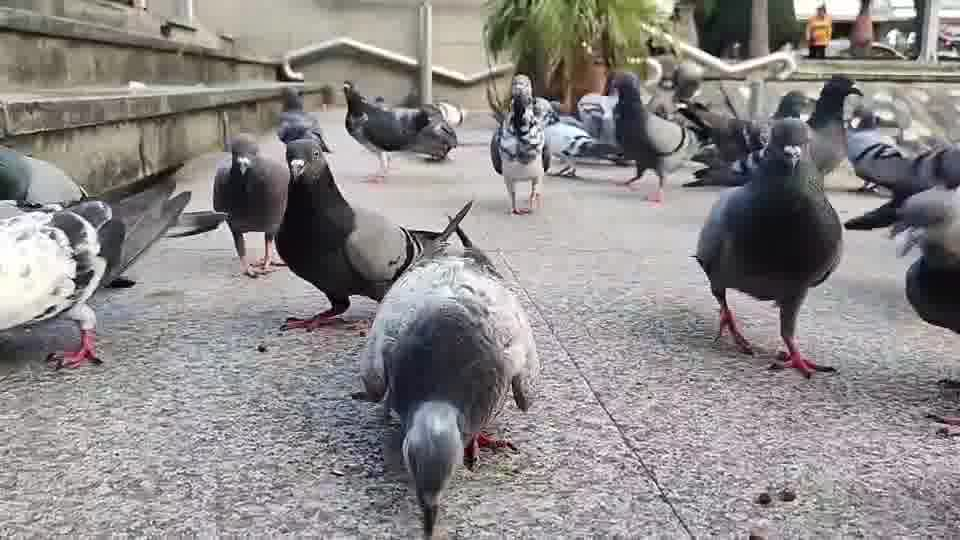Pigeon: (350, 199, 539, 537), (0, 148, 191, 370), (689, 117, 844, 380), (273, 137, 473, 333), (0, 198, 113, 370), (341, 79, 460, 182), (211, 131, 289, 278), (606, 70, 690, 203), (488, 72, 555, 215), (276, 86, 333, 154)
